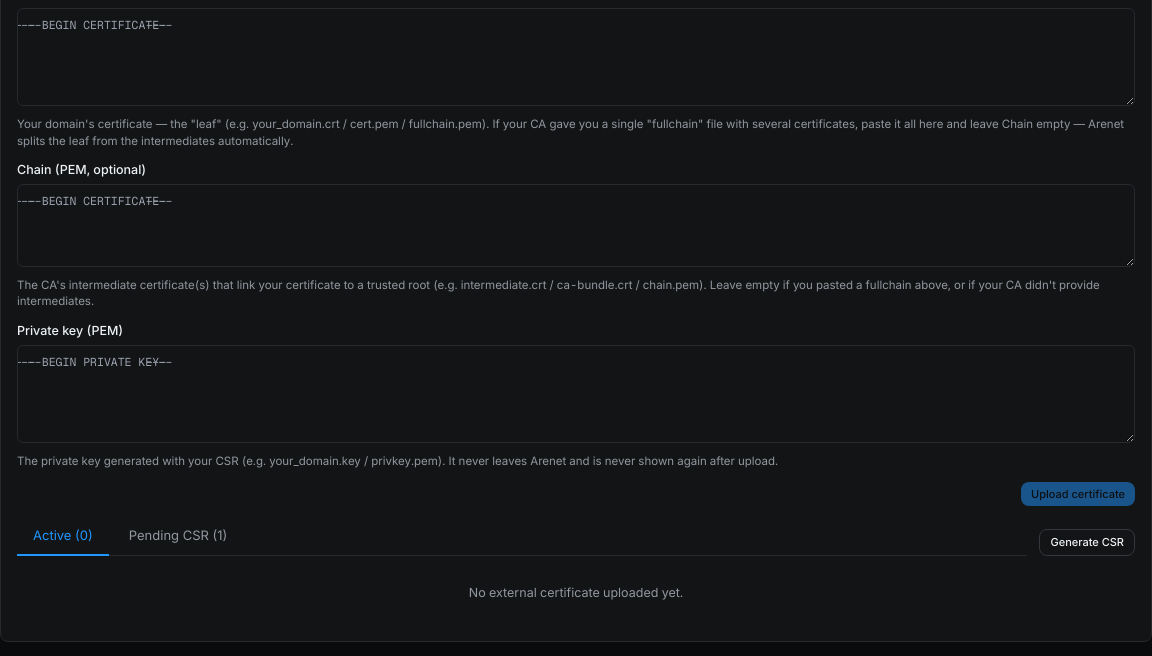
Test: ExternalCertsPanel — Active / Pending CSR tabs › renders response warnings as an inline notice after a successful cert-only re-import
This screenshot has width=1152, height=656.
(page scrolled)
Expected: the text "No external certificate uploaded yet." is shown, [469,585,683,600]
Click the tab with test id "external-certs-tab-pending".
click(178, 537)  # box [113,518,243,556]
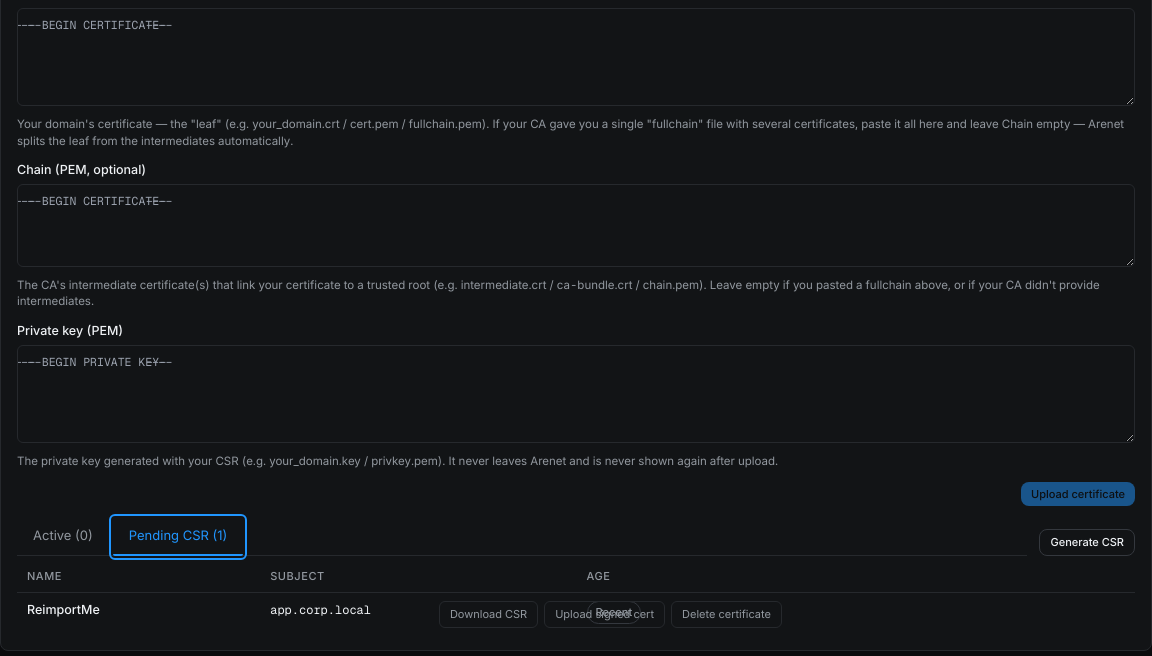
Click the button "Upload signed cert".
click(605, 615)  # box [544,601,665,628]
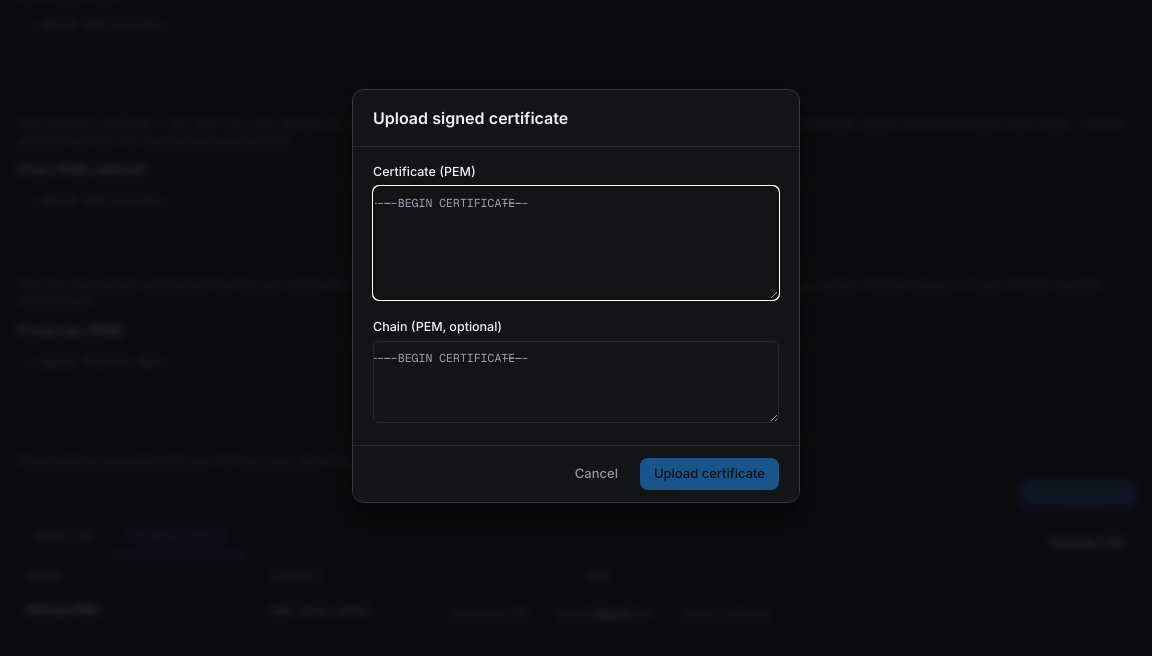
Type "SIGNEDCERTPEM" into the text box with test id "external-cert-reimport-cert-pem".
click(576, 243); type("SIGNEDCERTPEM")  # box [373,186,779,300]
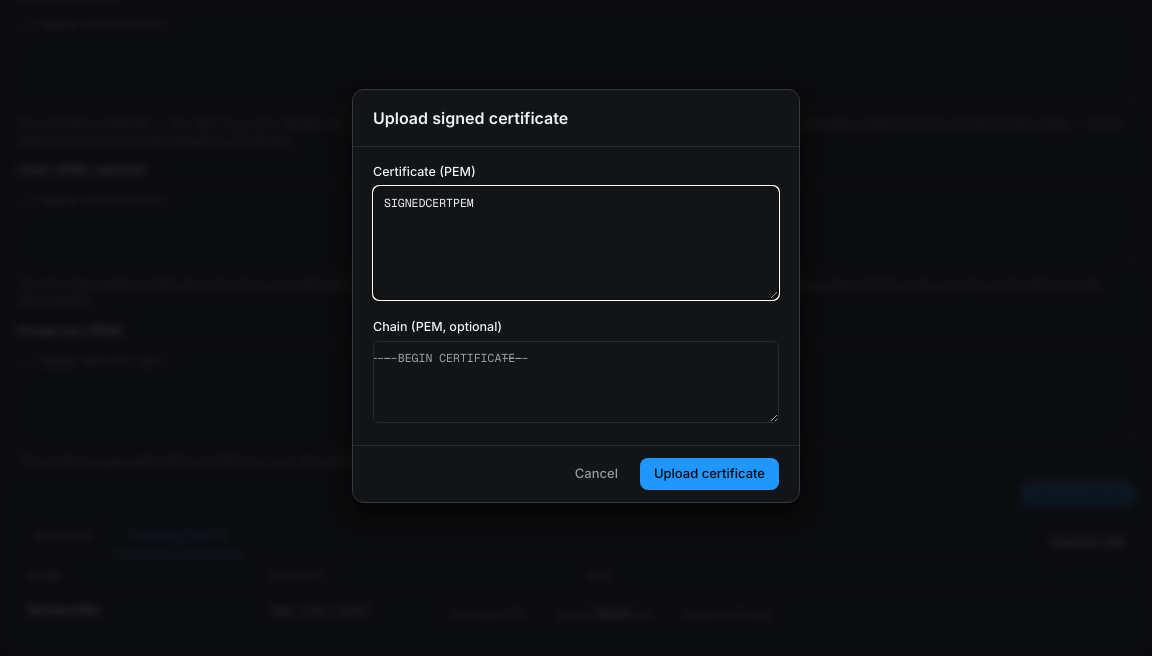
Click the button with test id "external-cert-reimport-submit".
click(709, 474)  # box [640,458,779,490]
(page scrolled)
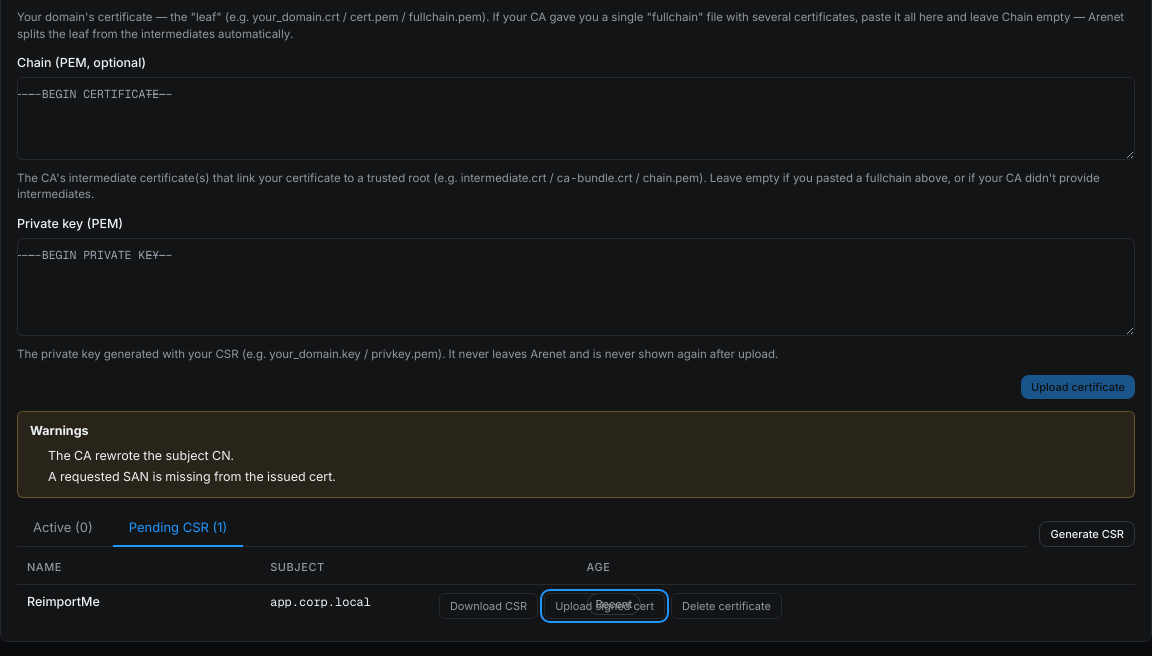
Expected: the message with test id "external-cert-reimport-warnings" shows "The CA rewrote the subject CN.", [48,448,234,463]
Expected: the message with test id "external-cert-reimport-warnings" shows "A requested SAN is missing from the issued cert.", [48,469,336,484]
